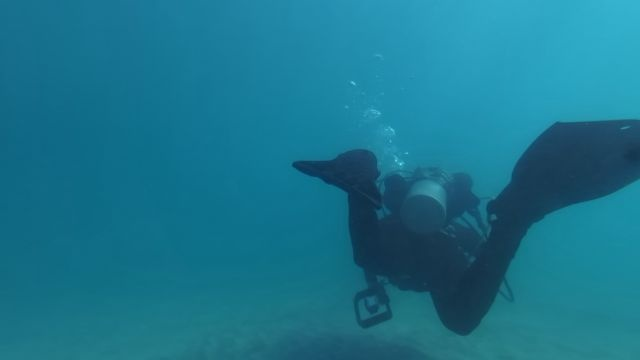Diver: (275, 103, 639, 335), (291, 139, 395, 219)
